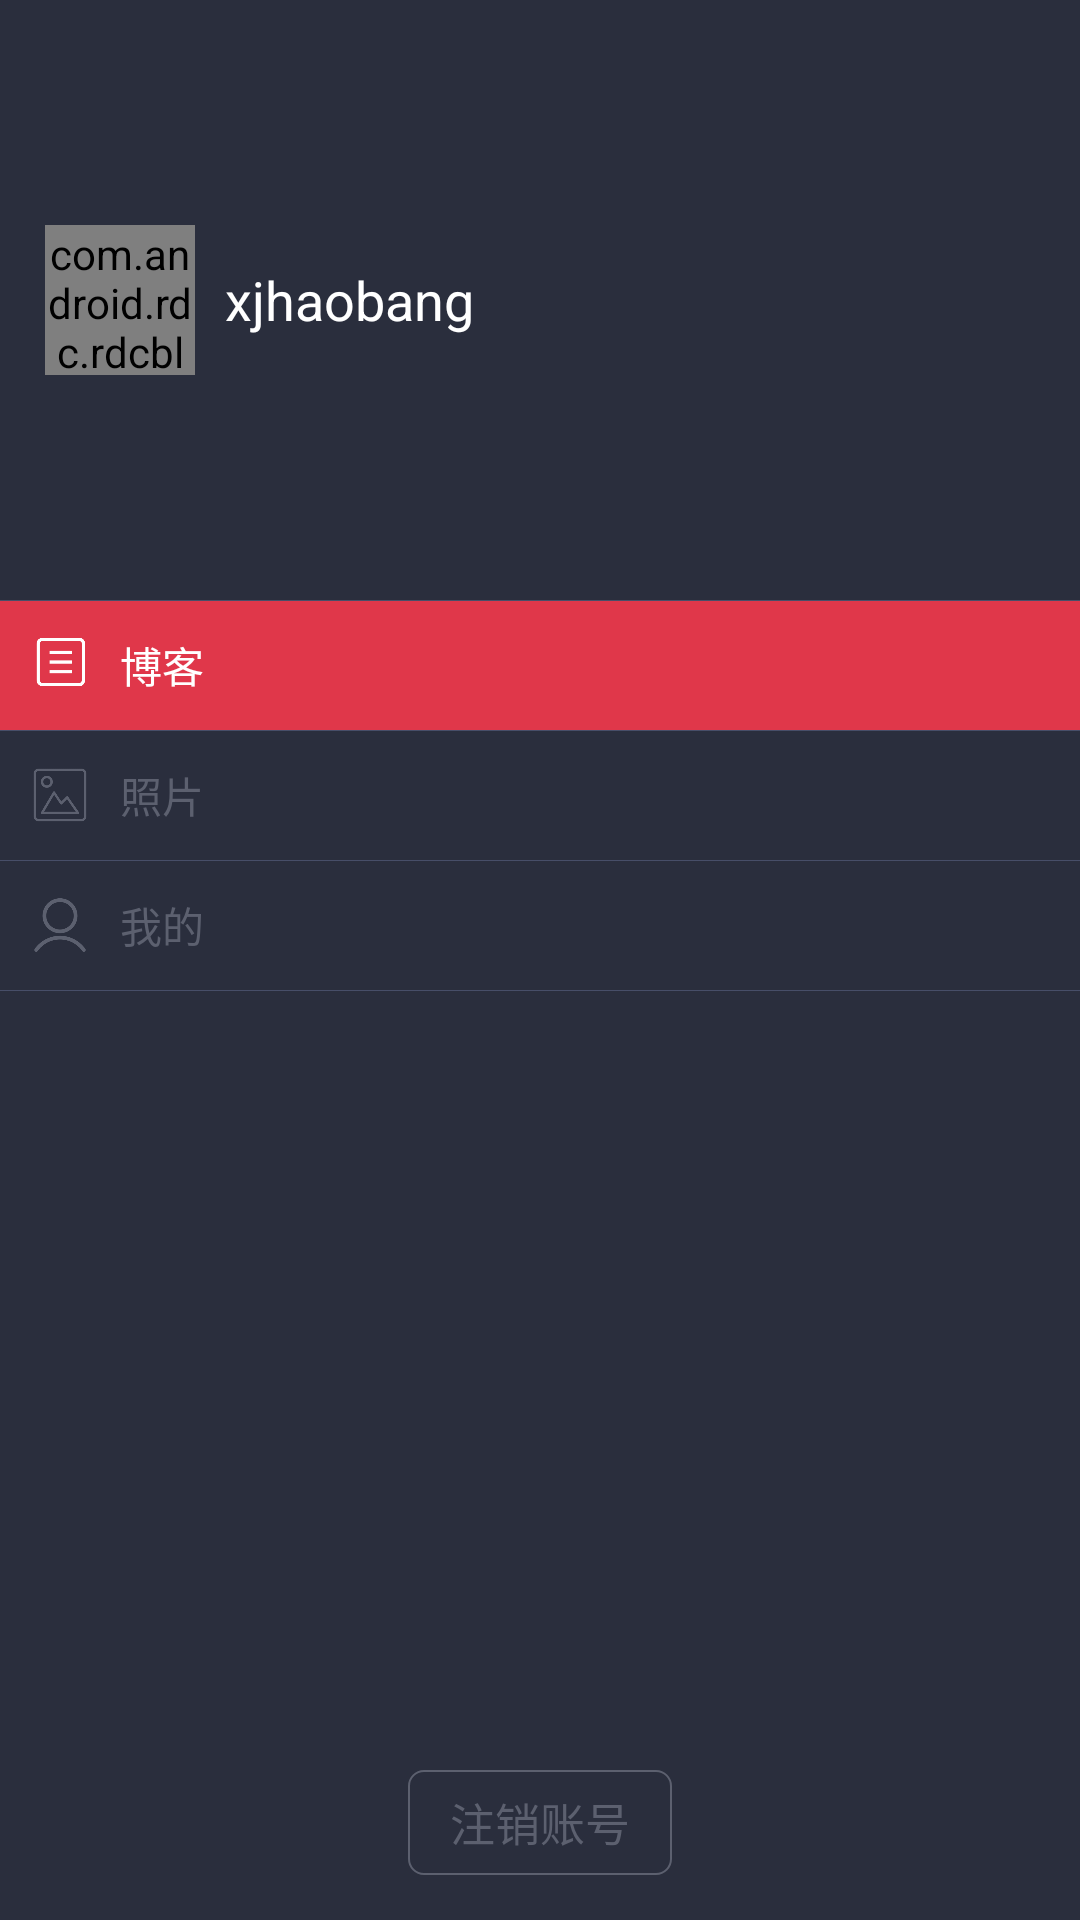

Where icons sit on this 1080 × 1920 app screen, as bbox=[x1, y1, x2, y2]:
slidemenu blog: bbox=[36, 638, 85, 686]
